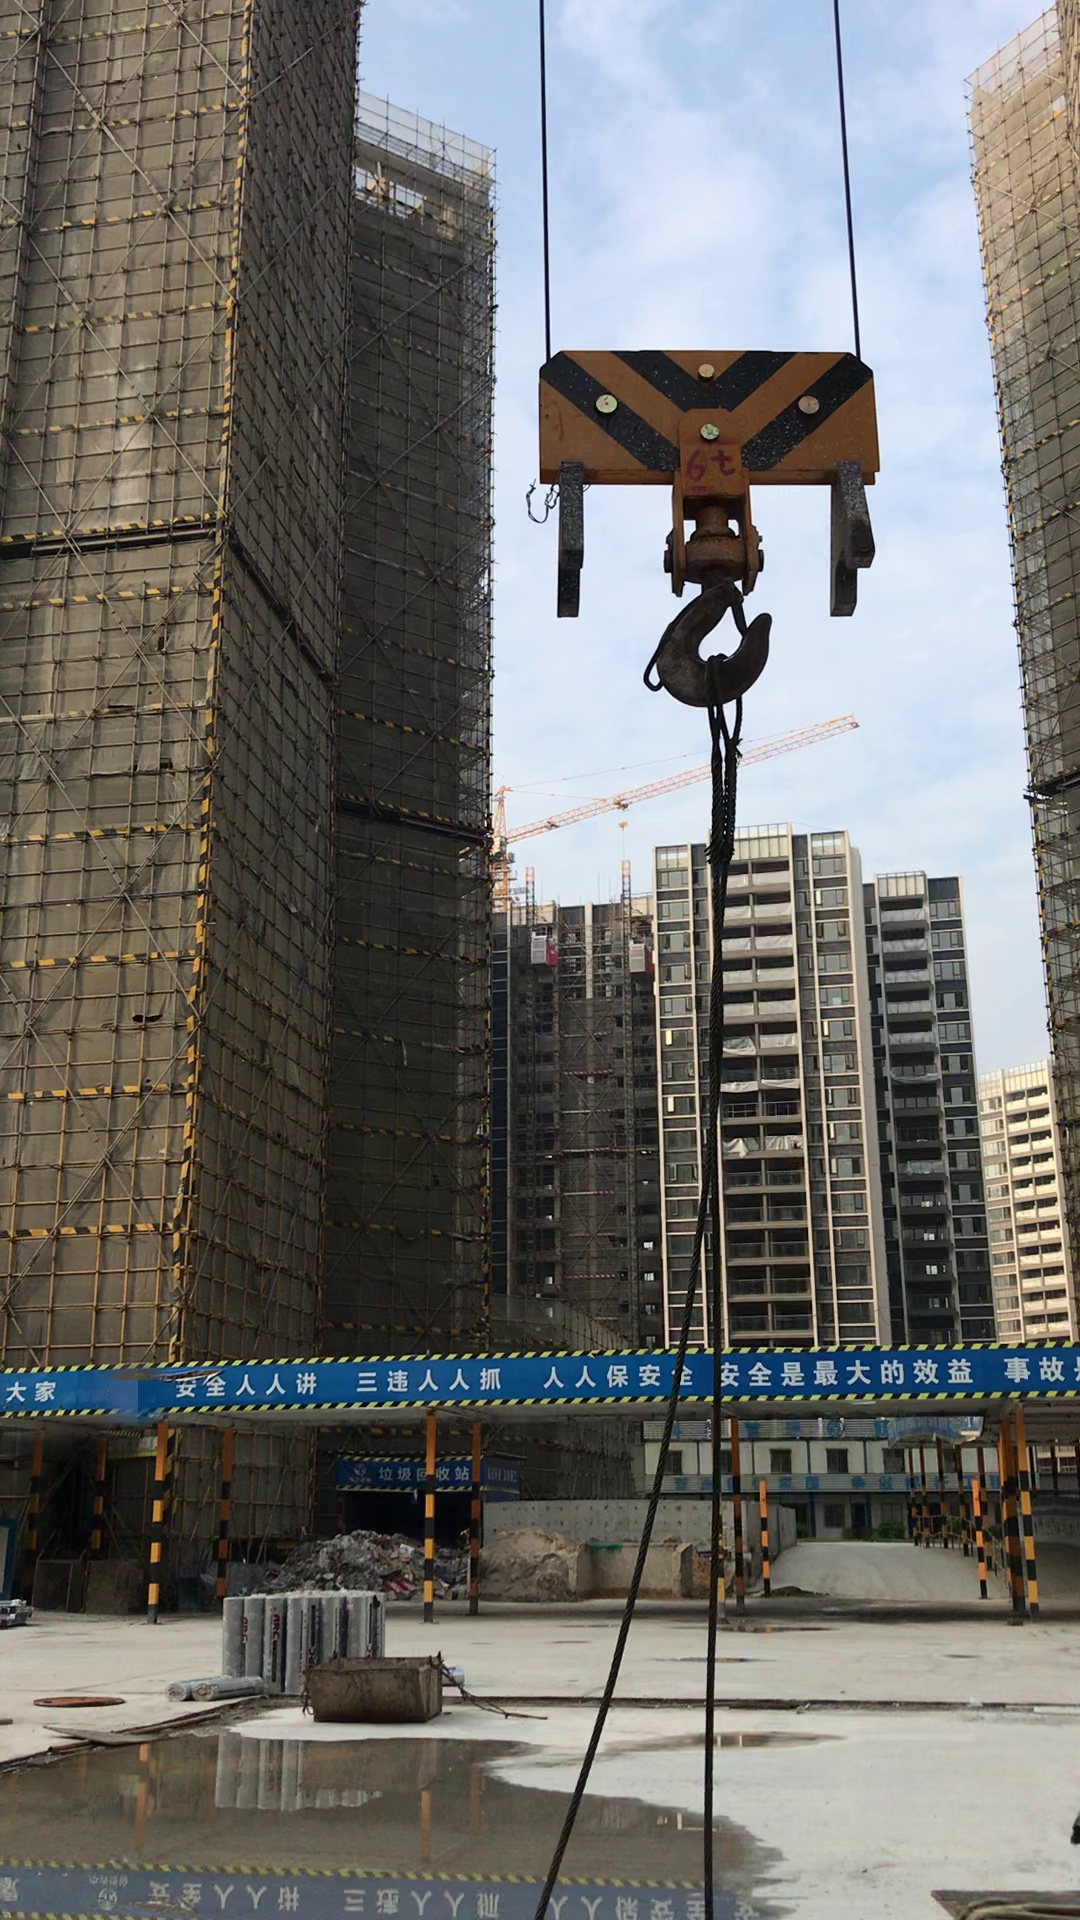hook: (497, 334, 899, 709)
hopper: (301, 1654, 448, 1727)
slogan: (11, 1346, 1076, 1429)
